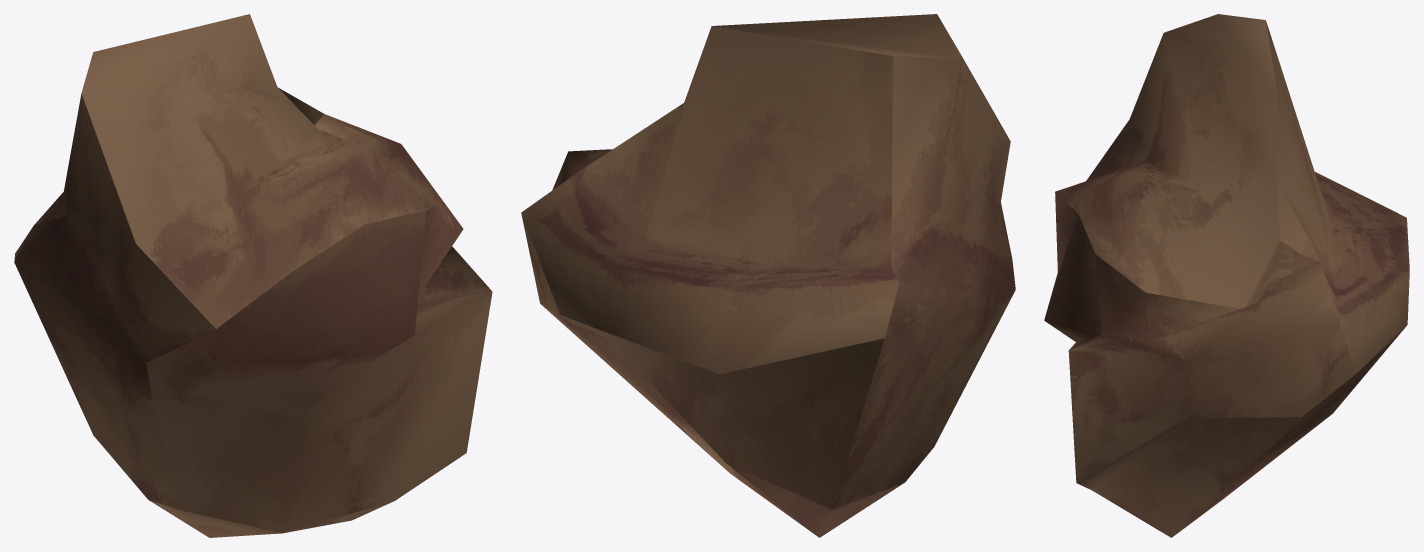
File: rock_02.FBX
3 views of the same model, side by side, from view 1: azimuth 30°, elevation 25°; view 2: azimuth 150°, elevation 25°; view 3: azimuth 270°, elevation 25° (orthographic). The views are drawn at different scales.
Parts seen in each view (by area): view 1: Box002; view 2: Box002; view 3: Box002.
Boxes of the visible parts, x1=… form: Box002: x1=14, y1=14, x2=492, y2=537; Box002: x1=521, y1=14, x2=1015, y2=537; Box002: x1=1044, y1=14, x2=1409, y2=537.
Size of the model in its own units: 25.35 by 31.02 by 23.45.
